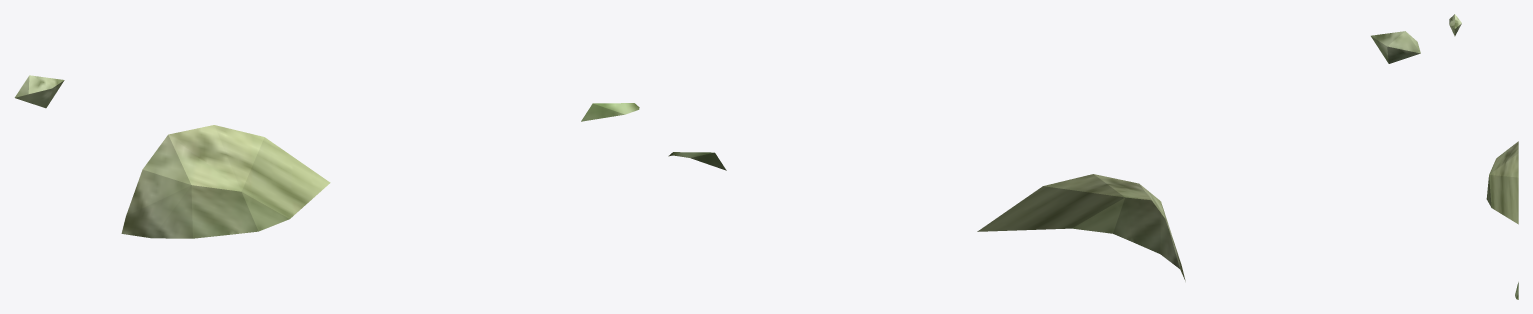
3 views of the same model, side by side, from view 1: azimuth 30°, elevation 25°; view 2: azimuth 150°, elevation 25°; view 3: azimuth 270°, elevation 25° (orthographic). The views are drawn at different scales.
Size of the model in its own units: 4.6 by 1.55 by 0.8014.
Materials: 1 (1 with a texture image).
